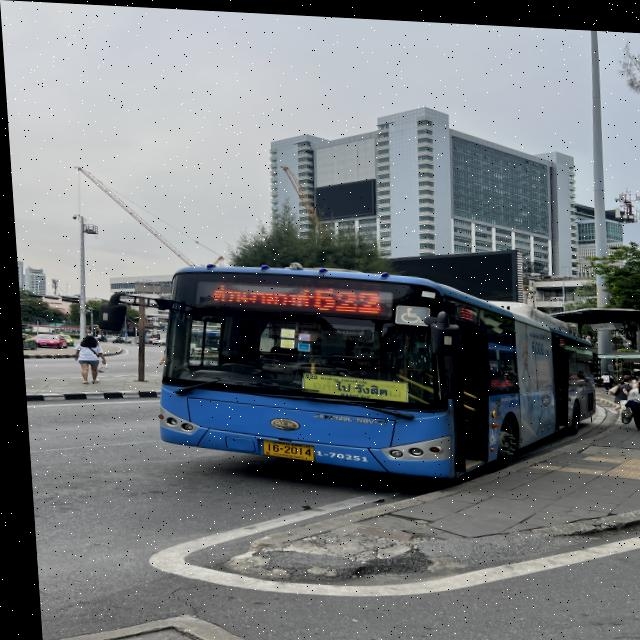BMTA-bus: (153, 265, 588, 477)
Bus Line Number: (307, 281, 389, 311)
Bus Side Number: (308, 445, 363, 461)
Destination Sign: (295, 368, 406, 400)
